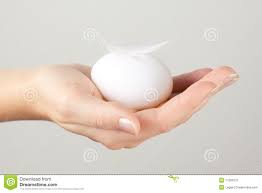egg: (90, 53, 174, 109)
